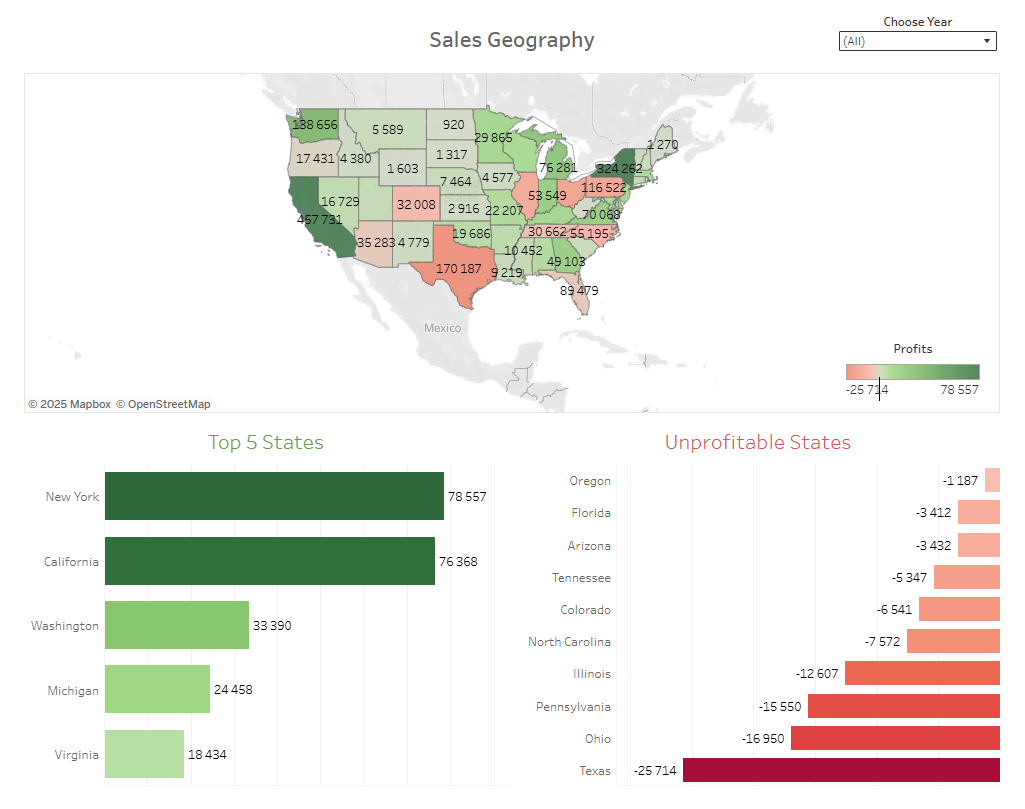

The dashboard page shown, as its layout file describes it:
{"tool":"tableau","page":{"name":"Geography Dashboard","canvas":[1000,800],"ordinal":3},"visuals":[{"type":"text","box":[8,8,984,63]},{"type":"filter","title":"Sales Geography Map","param":"[federated.1rq3crg0brpm2t1e6yt8s01euf5b].[yr:order_date:ok]","box":[826,14,160,48]},{"type":"worksheet","title":"Sales Geography Map","mark":"Automatic","box":[8,71,984,348]},{"type":"legend","title":"Sales Geography Map","param":"[federated.1rq3crg0brpm2t1e6yt8s01euf5b].[sum:order_profits:qk]","box":[830,342,142,79]},{"type":"worksheet","title":"Sheet 15","mark":"Automatic","rows":["shipping_state"],"cols":["order_profits"],"box":[8,419,492,373]},{"type":"worksheet","title":"Sheet 15 (2)","mark":"Automatic","rows":["shipping_state"],"cols":["order_profits"],"box":[500,419,492,373]}]}

Visuals, with their boxes in screenshot pixels (x1, y1, x2, y2), scaled from the page's 1000x800 canvas onto the 1025x809 screenshot:
text: Rect(8, 8, 1017, 72)
"Sales Geography Map" filter: Rect(847, 14, 1011, 63)
"Sales Geography Map" worksheet: Rect(8, 72, 1017, 424)
"Sales Geography Map" legend: Rect(851, 346, 996, 426)
"Sheet 15" worksheet: Rect(8, 424, 512, 801)
"Sheet 15 (2)" worksheet: Rect(512, 424, 1017, 801)
